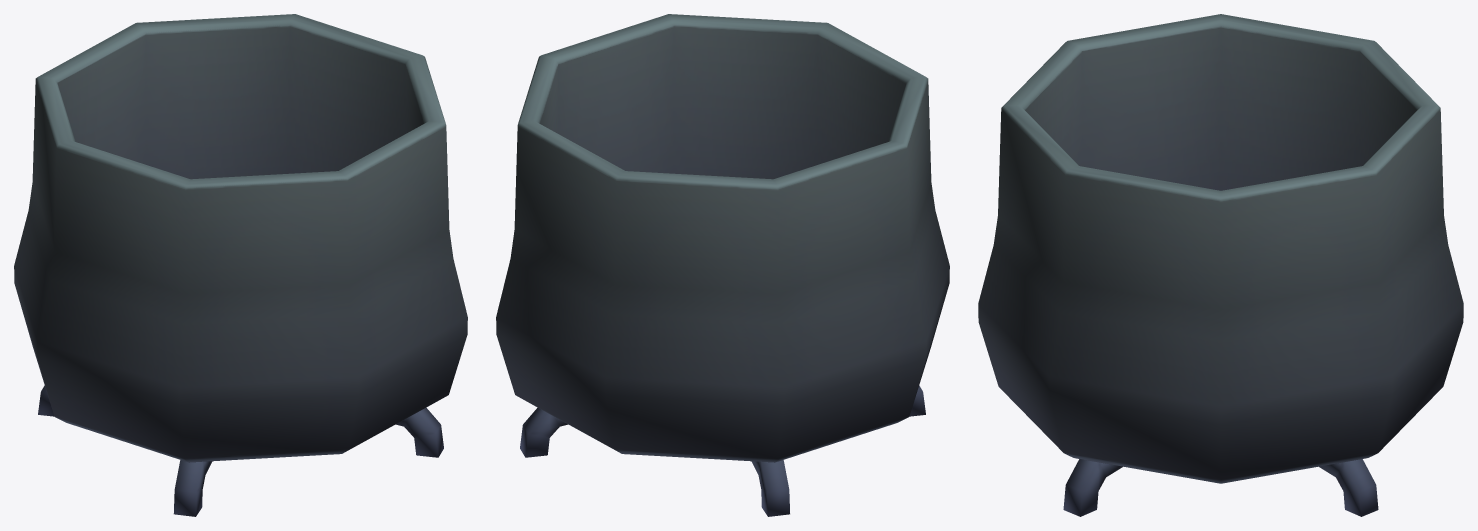
The model's file is Boiler.fbx.
3 views of the same model, side by side, from view 1: azimuth 30°, elevation 25°; view 2: azimuth 150°, elevation 25°; view 3: azimuth 270°, elevation 25° (orthographic). The views are drawn at different scales.
Parts seen in each view (by area): view 1: Boiler.001; view 2: Boiler.001; view 3: Boiler.001.
Part boxes in pixels (bbox=[...]): Boiler.001: bbox=[14, 14, 467, 516]; Boiler.001: bbox=[496, 14, 949, 516]; Boiler.001: bbox=[978, 14, 1463, 516].
Bounding box in the file's own units: 114 × 114 × 88.85.
Materials: 1 (1 with a texture image).
